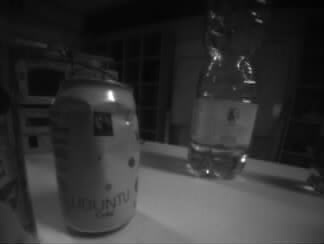Bottle: (186, 1, 262, 180)
Tin can: (48, 78, 141, 236)
